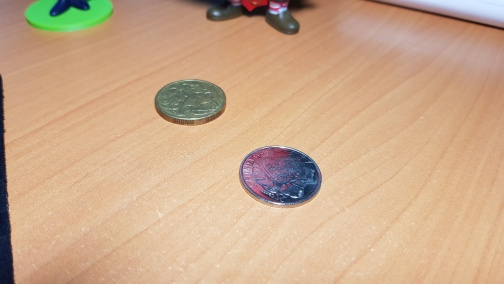coin: (239, 145, 323, 207), (154, 79, 227, 126)
